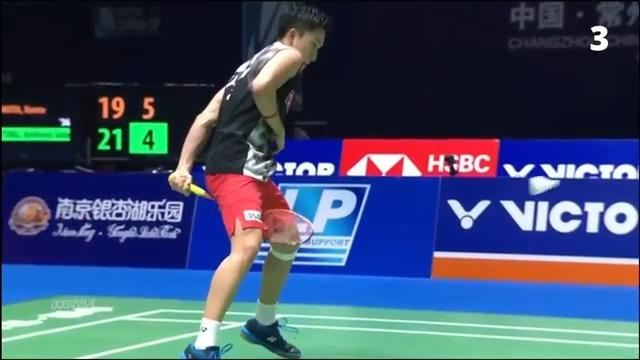Shuttlecock: (526, 172, 564, 196)
